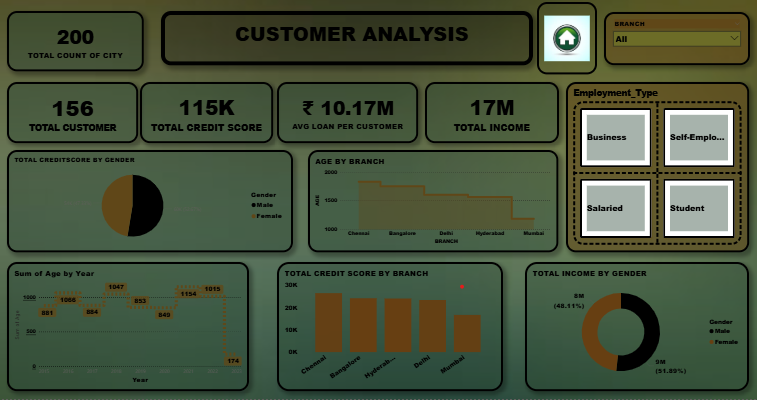

What the dashboard file says about the page in this screenshot:
{"tool":"powerbi","page":{"name":"CUSTOMER","canvas":[1900,1000],"ordinal":1},"visuals":[{"type":"card","fields":{"Values":["Sum(DATA.TOTAL CUSTOMER)"]},"box":[25.6,207,327.9,153.5],"z":0},{"type":"card","fields":{"Values":["Sum(DATA.AVG LOAN PER CUSTOMER)"]},"box":[700,207,353.5,153.5],"z":1000},{"type":"donutChart","title":"TOTAL INCOME BY GENDER","fields":{"Category":["Customers.Gender"],"Y":["Sum(Customers.Income)"]},"box":[1320.9,658.1,560.5,323.3],"z":2000},{"type":"columnChart","title":"TOTAL CREDIT SCORE BY BRANCH","fields":{"Category":["Customers.Branch"],"Y":["Sum(Customers.Credit_Score)"]},"box":[700,658.1,565.1,323.3],"z":3000},{"type":"slicer","fields":{"Values":["Customers.Branch"]},"box":[1516.2,32.5,365,132.5],"z":4000},{"type":"card","fields":{"Values":["Sum(Customers.Credit_Score)"]},"box":[358.1,207,332.6,153.5],"z":5000},{"type":"card","fields":{"Values":["Sum(Customers.Income)"]},"box":[1069.8,207,334.9,153.5],"z":6000},{"type":"textbox","box":[410,30,930,136.2],"z":7000},{"type":"advancedSlicerVisual","fields":{"Values":["Customers.Employment_Type"]},"box":[1423.3,207,458.1,425.6],"z":8000},{"type":"lineChart","fields":{"Category":["Customers.Account_Open_Date.Variation.Date Hierarchy.Year"],"Y":["Sum(Customers.Age)"]},"box":[25.6,658.1,604.7,323.3],"z":9000},{"type":"pieChart","title":"TOTAL CREDITSCORE BY GENDER","fields":{"Category":["Customers.Gender"],"Y":["Sum(Customers.Credit_Score)"]},"box":[25.9,377.8,714.8,255.6],"z":10000},{"type":"areaChart","title":"AGE BY BRANCH","fields":{"Category":["Customers.Branch"],"Y":["Sum(Customers.Age)"]},"box":[777.8,377.8,625.9,255.6],"z":11000},{"type":"card","fields":{"Values":["Customers.Count of Name total for City"]},"box":[25.6,30.2,341.9,151.2],"z":12000},{"type":"image","box":[1348.8,7.5,150,181.2],"z":12001}]}

Visuals, with their boxes in screenshot pixels (x1, y1, x2, y2), scaled from the page's 1900x1000 canvas onto the 757x400 screenshot:
card - Sum(DATA.TOTAL CUSTOMER): <bbox>10, 83, 141, 144</bbox>
card - Sum(DATA.AVG LOAN PER CUSTOMER): <bbox>279, 83, 420, 144</bbox>
"TOTAL INCOME BY GENDER" donutChart: <bbox>526, 263, 750, 393</bbox>
"TOTAL CREDIT SCORE BY BRANCH" columnChart: <bbox>279, 263, 504, 393</bbox>
slicer - Customers.Branch: <bbox>604, 13, 750, 66</bbox>
card - Sum(Customers.Credit_Score): <bbox>143, 83, 275, 144</bbox>
card - Sum(Customers.Income): <bbox>426, 83, 560, 144</bbox>
textbox: <bbox>163, 12, 534, 66</bbox>
advancedSlicerVisual - Customers.Employment_Type: <bbox>567, 83, 750, 253</bbox>
lineChart - Customers.Account_Open_Date.Variation.Date Hierarchy.Year x Sum(Customers.Age): <bbox>10, 263, 251, 393</bbox>
"TOTAL CREDITSCORE BY GENDER" pieChart: <bbox>10, 151, 295, 253</bbox>
"AGE BY BRANCH" areaChart: <bbox>310, 151, 559, 253</bbox>
card - Customers.Count of Name total for City: <bbox>10, 12, 146, 73</bbox>
image: <bbox>537, 3, 597, 75</bbox>
